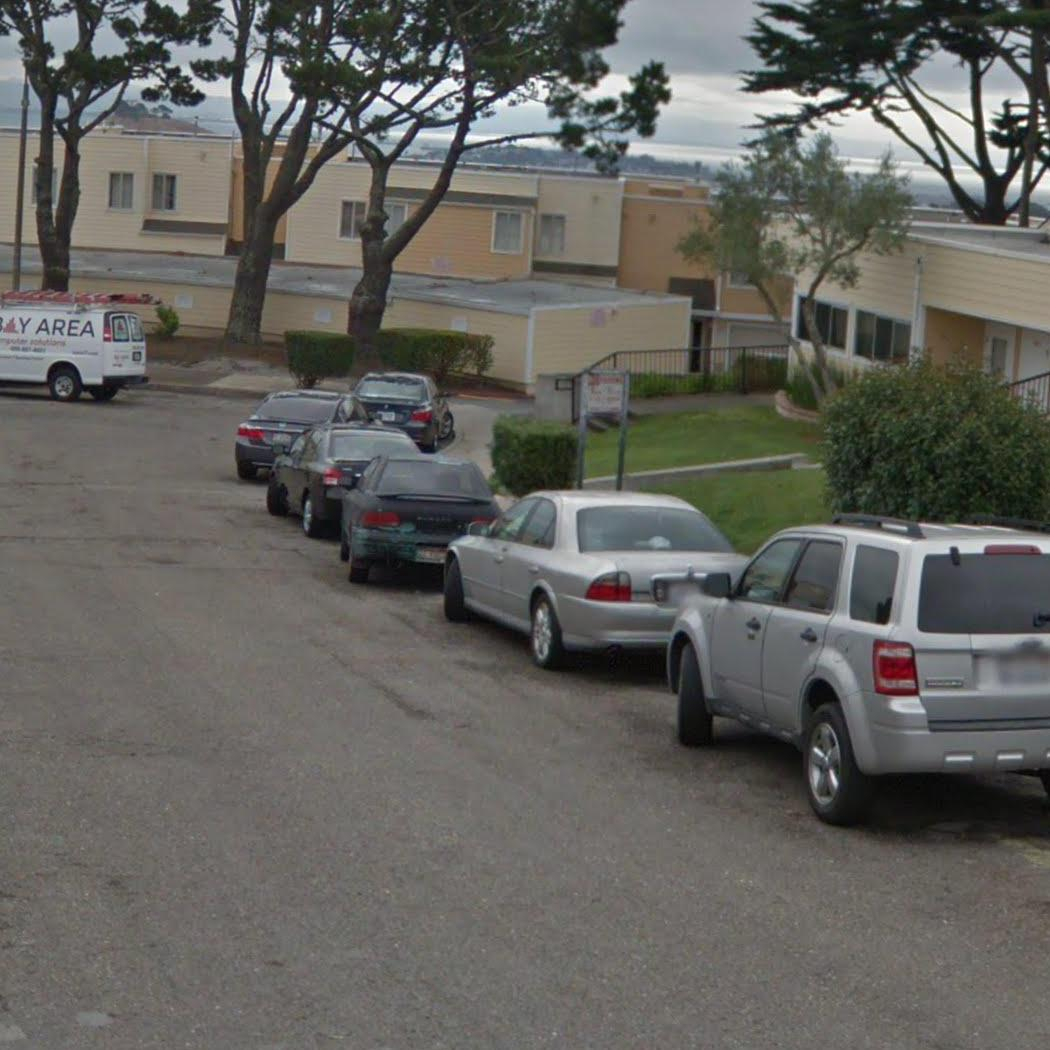No Parking: (579, 369, 628, 416)
